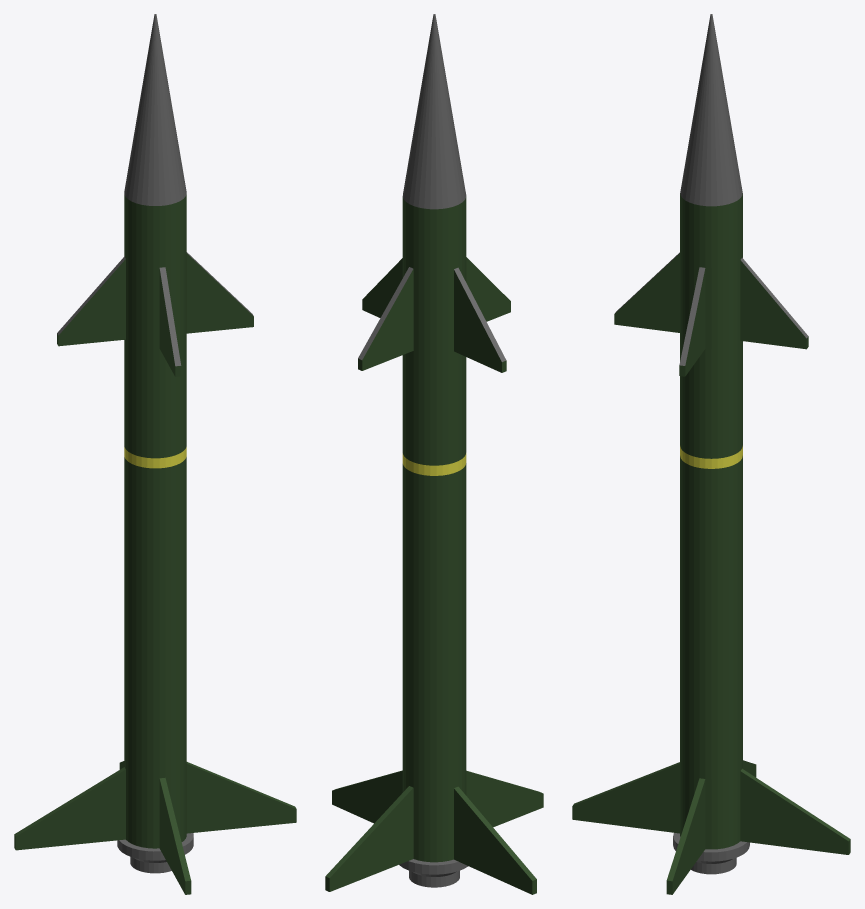
Rendered from missile.gltf.
3 views of the same model, side by side, from view 1: azimuth 30°, elevation 25°; view 2: azimuth 150°, elevation 25°; view 3: azimuth 270°, elevation 25° (orthographic).
Visible parts, largest first — view 1: missile; view 2: missile; view 3: missile.
Boxes of the visible parts, x1,y1,x2,y2 form: missile: [14, 14, 296, 894]; missile: [325, 14, 543, 894]; missile: [572, 14, 850, 894].
Bounding box in the file's own units: 4.44 × 14.95 × 4.44.
